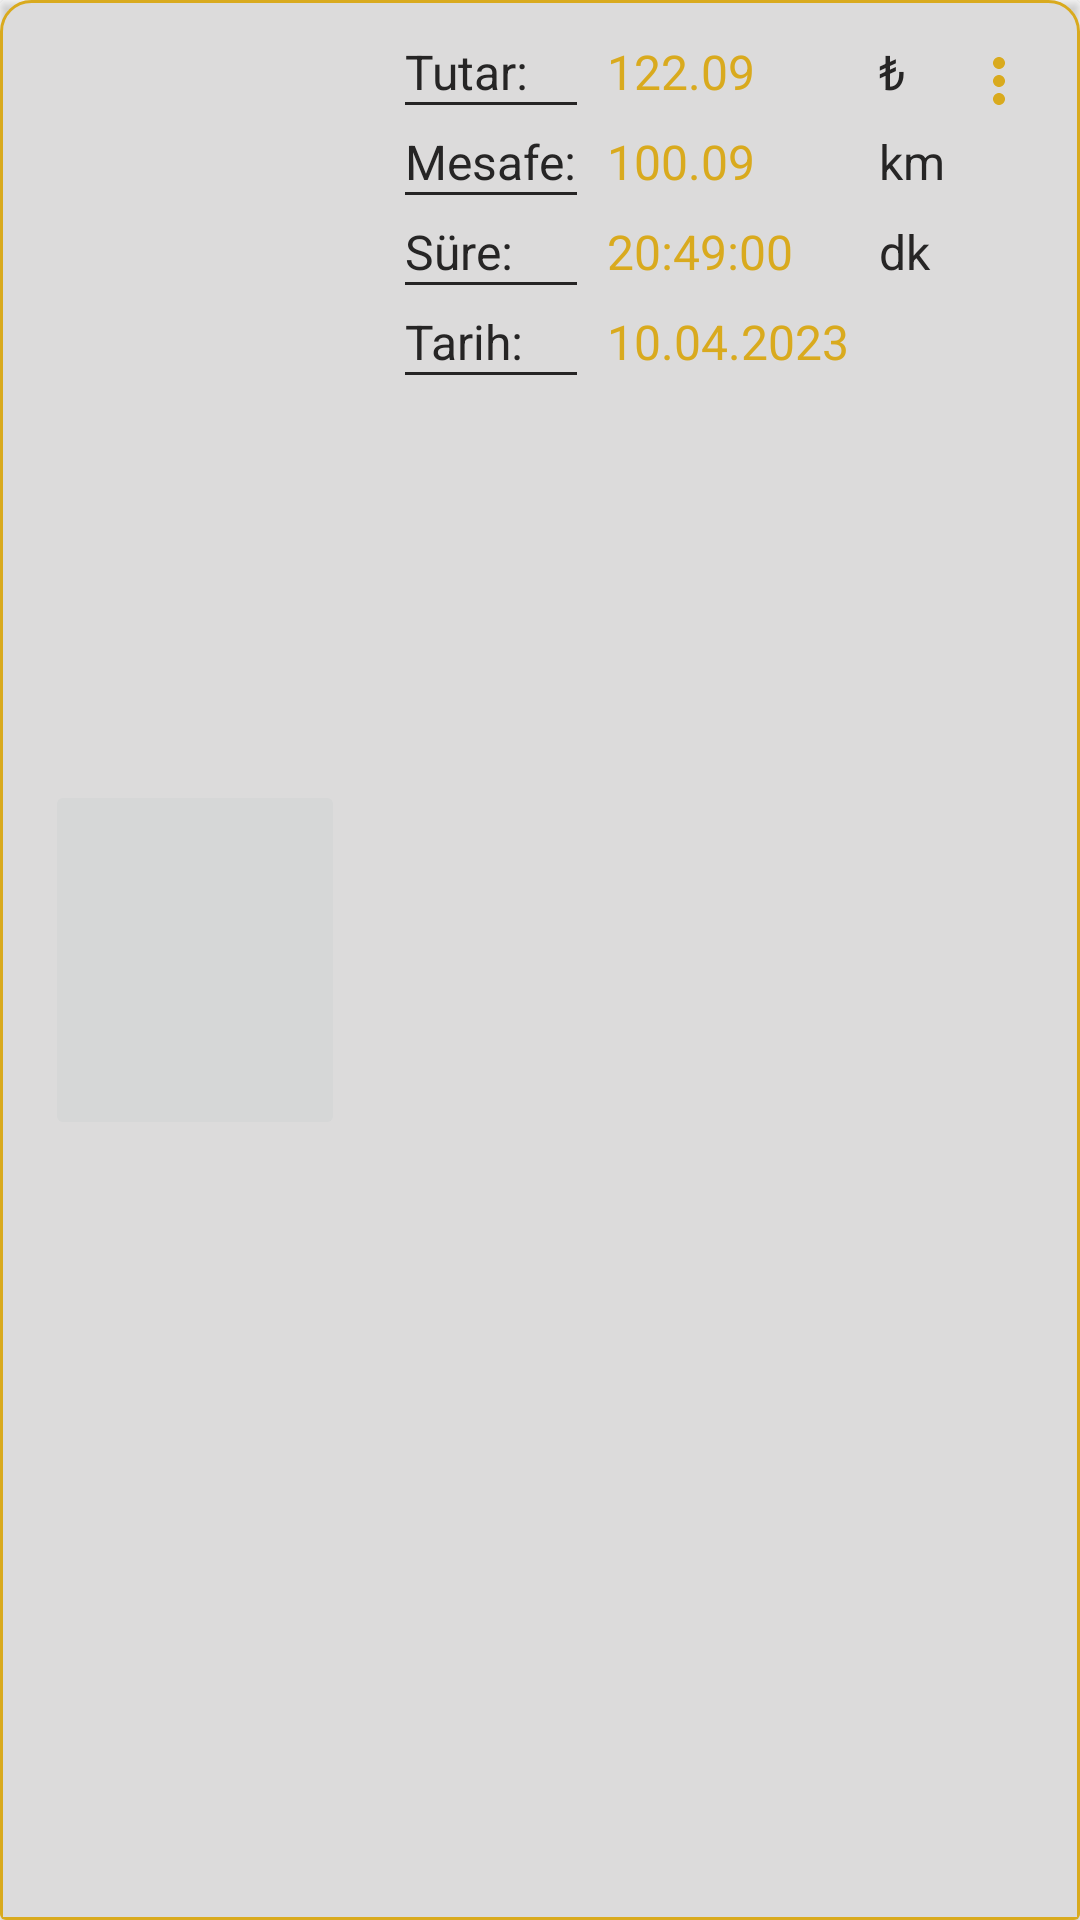

Screen size 1080 × 1920. Icon name, then its center in pixels as point (x, y):
menu: point (999, 81)
